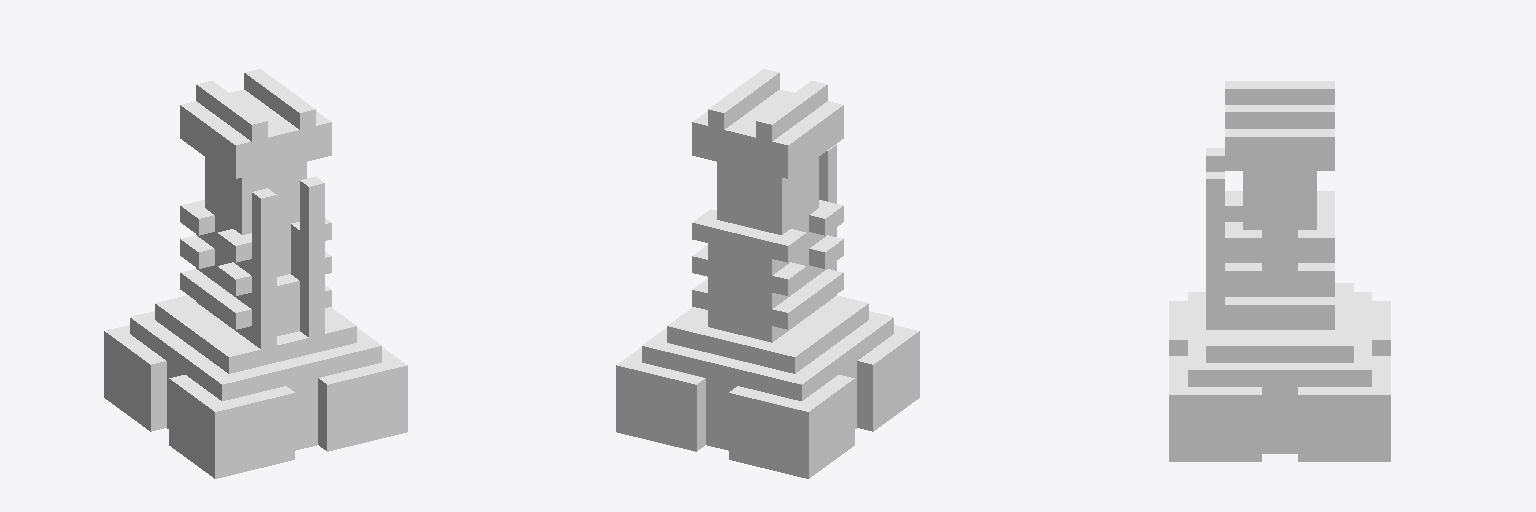
Rendered from bow.red.obj.
The picture shows the model from 3 angles: view 1: azimuth 30°, elevation 25°; view 2: azimuth 150°, elevation 25°; view 3: azimuth 270°, elevation 25°; orthographic projection.
Visible parts, largest first — view 1: object 1; view 2: object 1; view 3: object 1.
Part boxes in pixels (x1,y1,x2,y2): object 1: (104, 69, 407, 478); object 1: (616, 69, 919, 478); object 1: (1169, 81, 1390, 461).
Size of the model in its own units: 1.2 by 1.9 by 1.2.